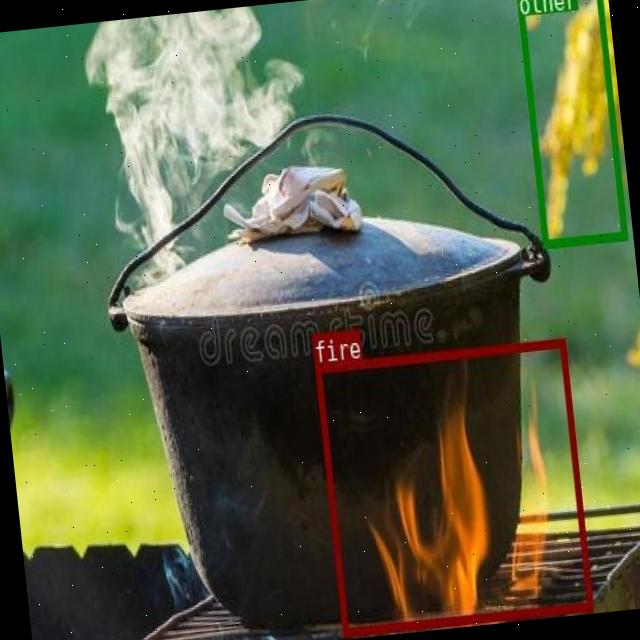fire: (314, 338, 592, 634)
